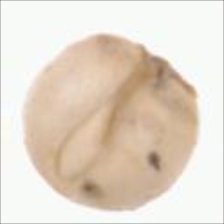L5: (55, 69, 146, 181), (119, 38, 198, 97)
L6: (21, 30, 200, 212)
